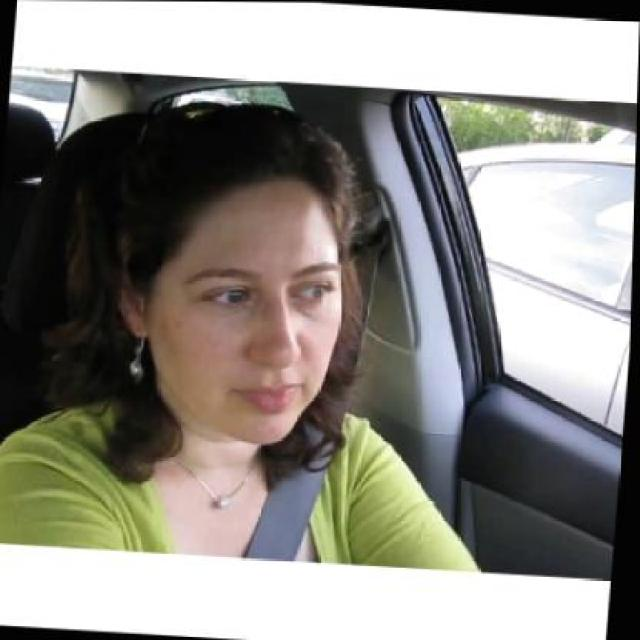attentif: (104, 98, 359, 450)
